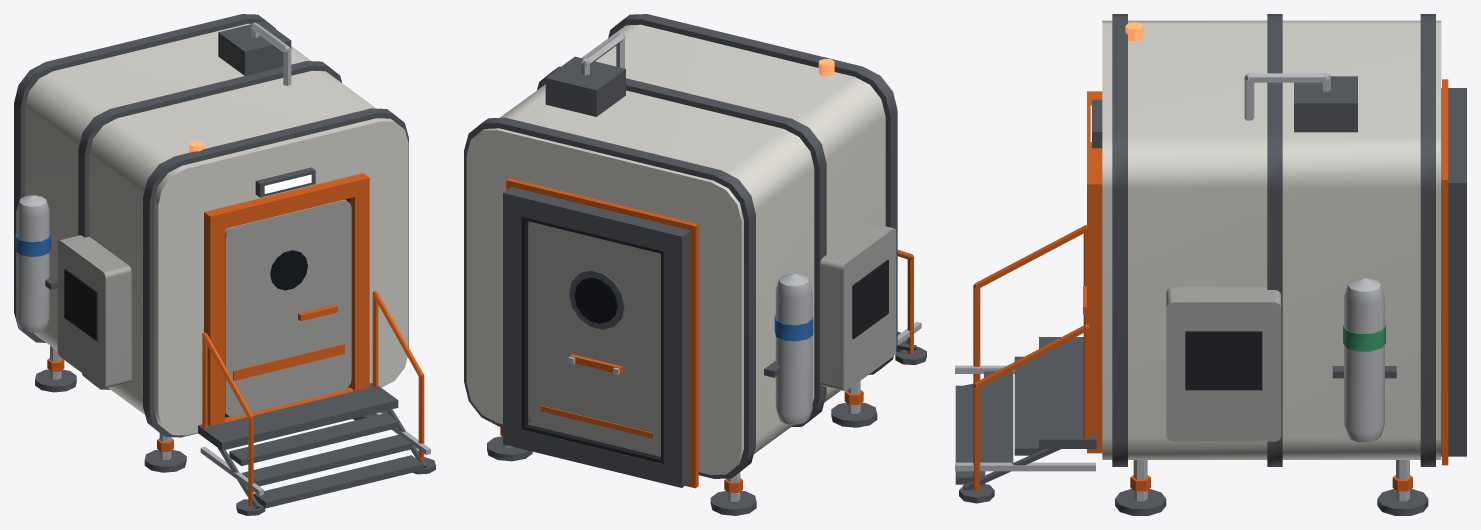
Rendered from airlock.glb.
3 views of the same model, side by side, from view 1: azimuth 30°, elevation 25°; view 2: azimuth 150°, elevation 25°; view 3: azimuth 270°, elevation 25° (orthographic). The views are drawn at different scales.
Parts seen in each view (by area): view 1: body, door_outer; view 2: body, hatch_s; view 3: body.
Boxes of the visible parts, x1=… form: body: x1=14, y1=14, x2=435, y2=515; door_outer: x1=225, y1=199, x2=351, y2=416; body: x1=464, y1=14, x2=926, y2=515; hatch_s: x1=528, y1=222, x2=660, y2=454; body: x1=955, y1=14, x2=1466, y2=515.
Size of the model in its own units: 3.36 by 3.54 by 4.
